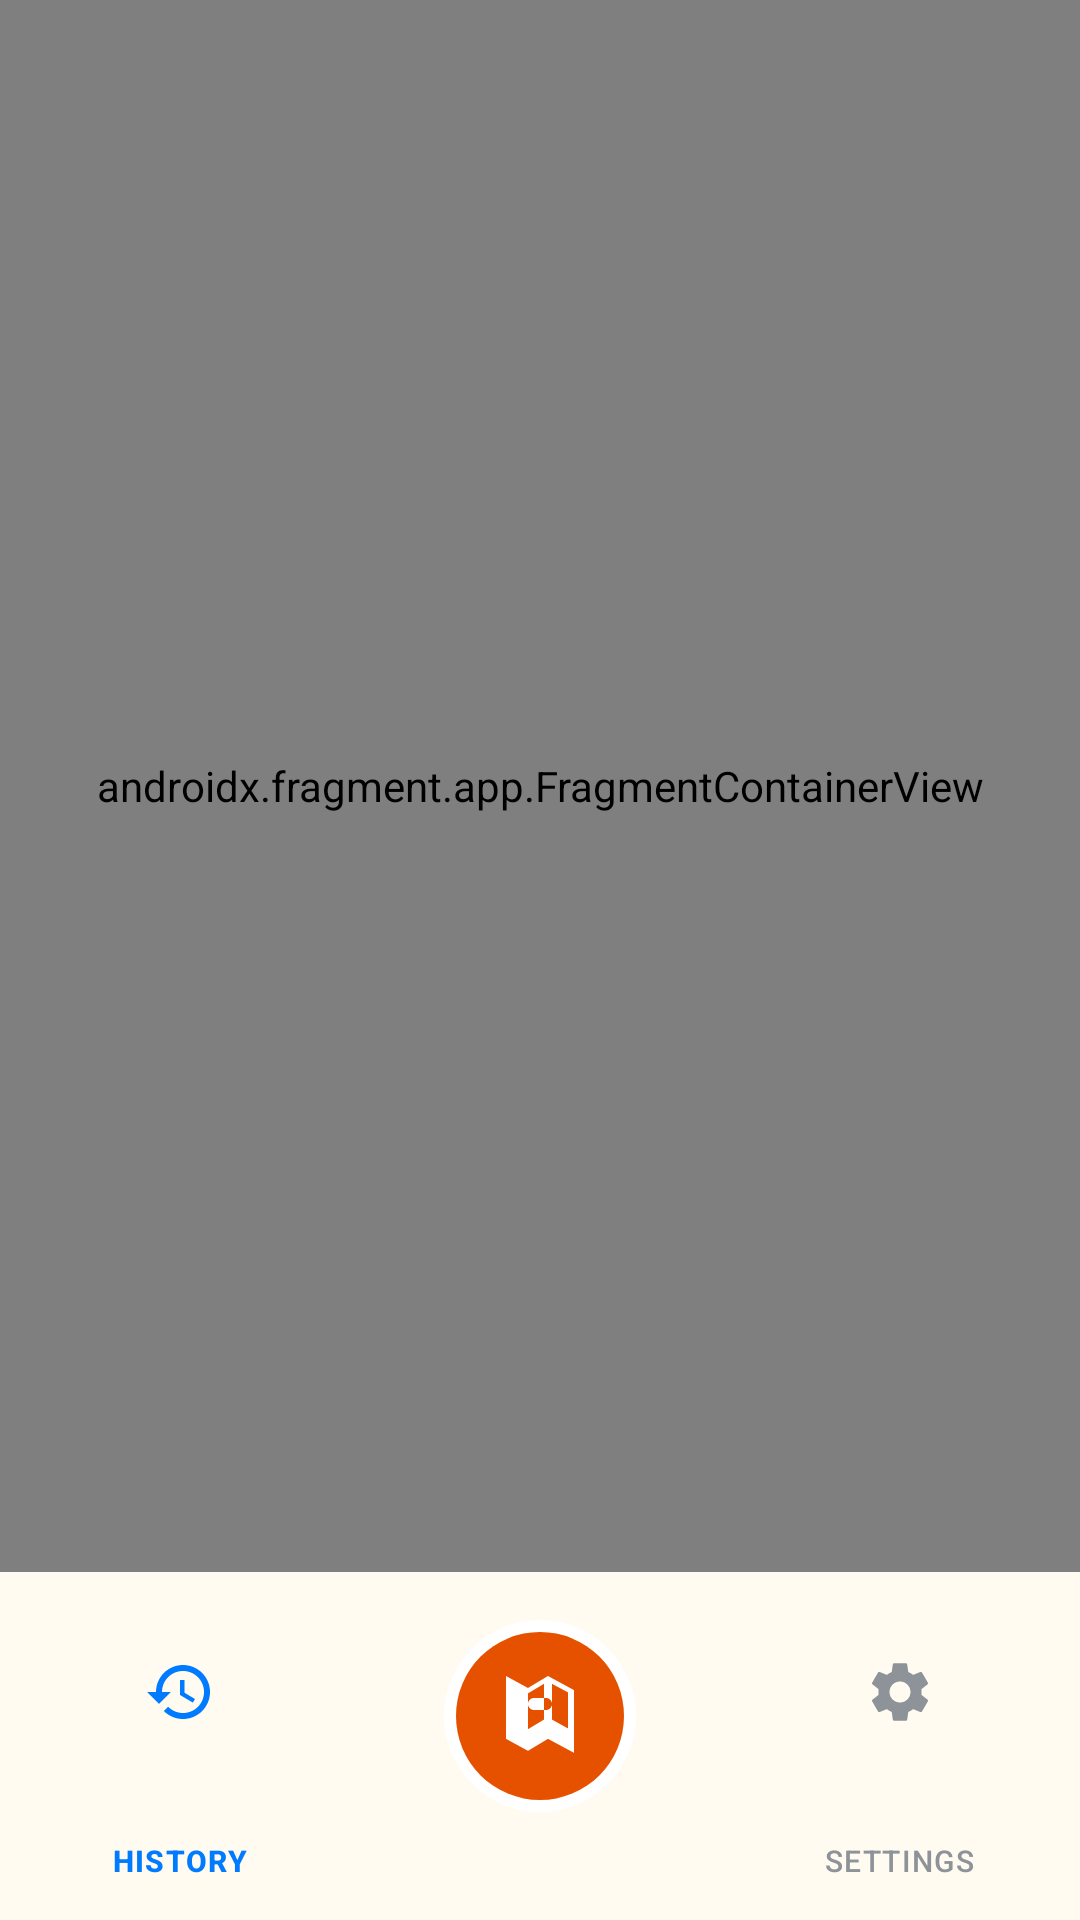

Screen size 1080×1920. Icon name, then its center in pixels as (x,y):
Map: (540,1714)
